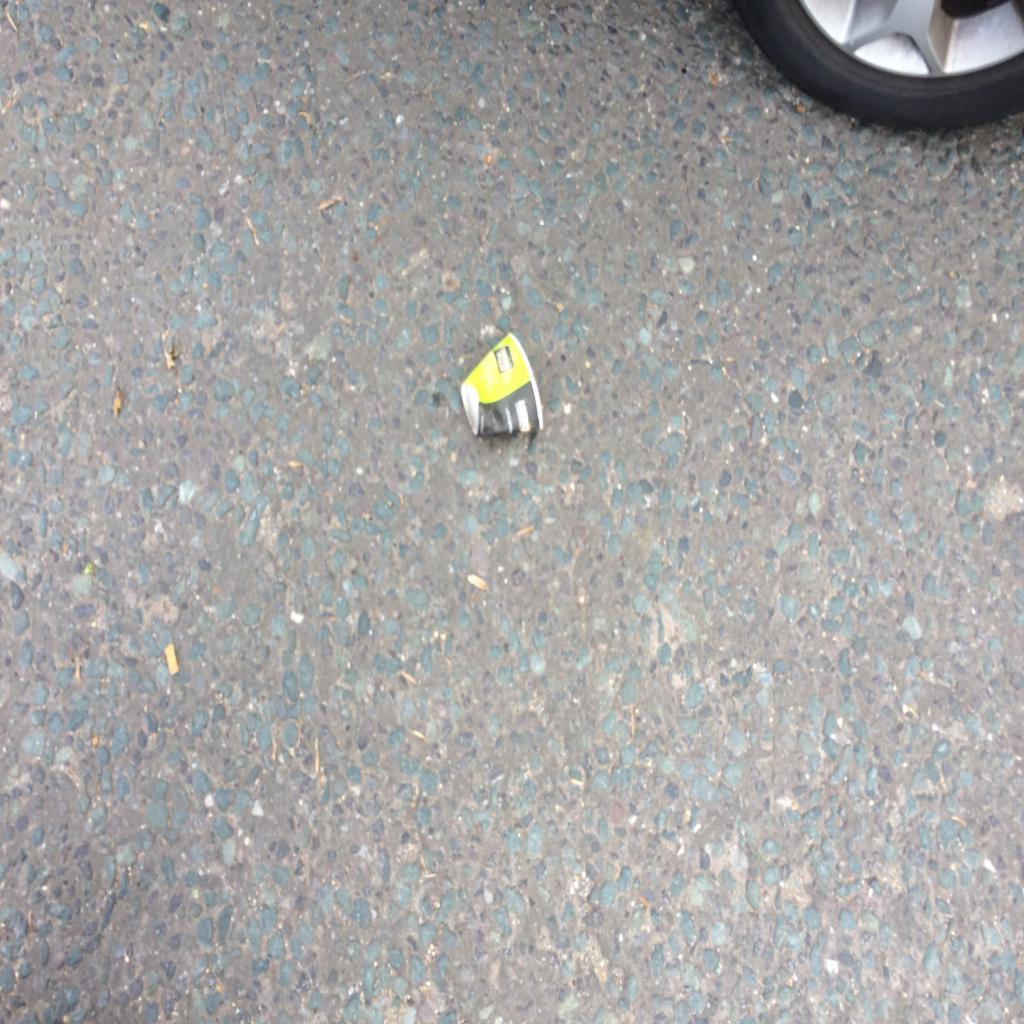Paper cup: (461, 332, 543, 436)
